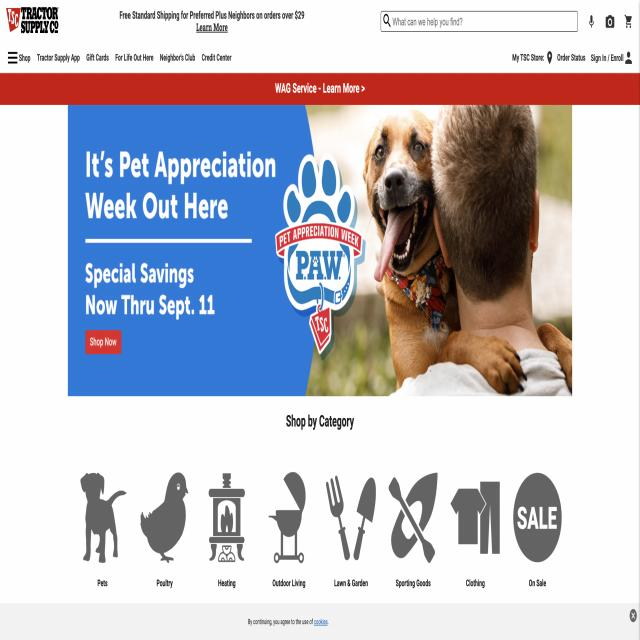Logo: (0, 0, 68, 41)
Navigation: (0, 42, 640, 70)
